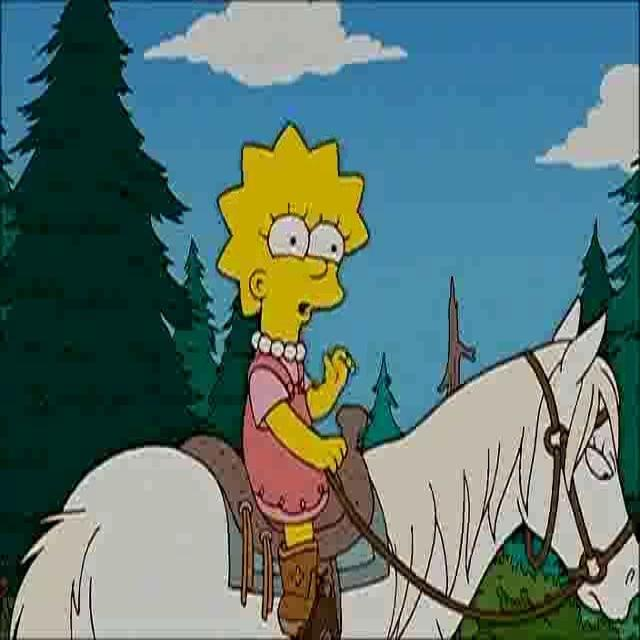Lisa Simpson: (214, 123, 374, 354)
